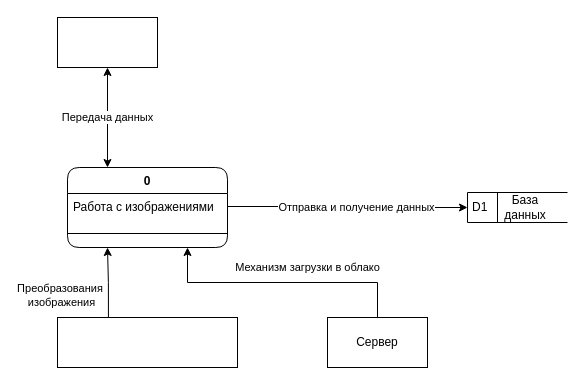
Some shapes in this 585 by 385 pixel diagram are drawn without their labels. The box of each missing label's shape, as (x1, y1, x2, y2) in pixels:
Web-интерфейс: (56, 316, 238, 368)
Пользователь: (56, 16, 158, 68)
